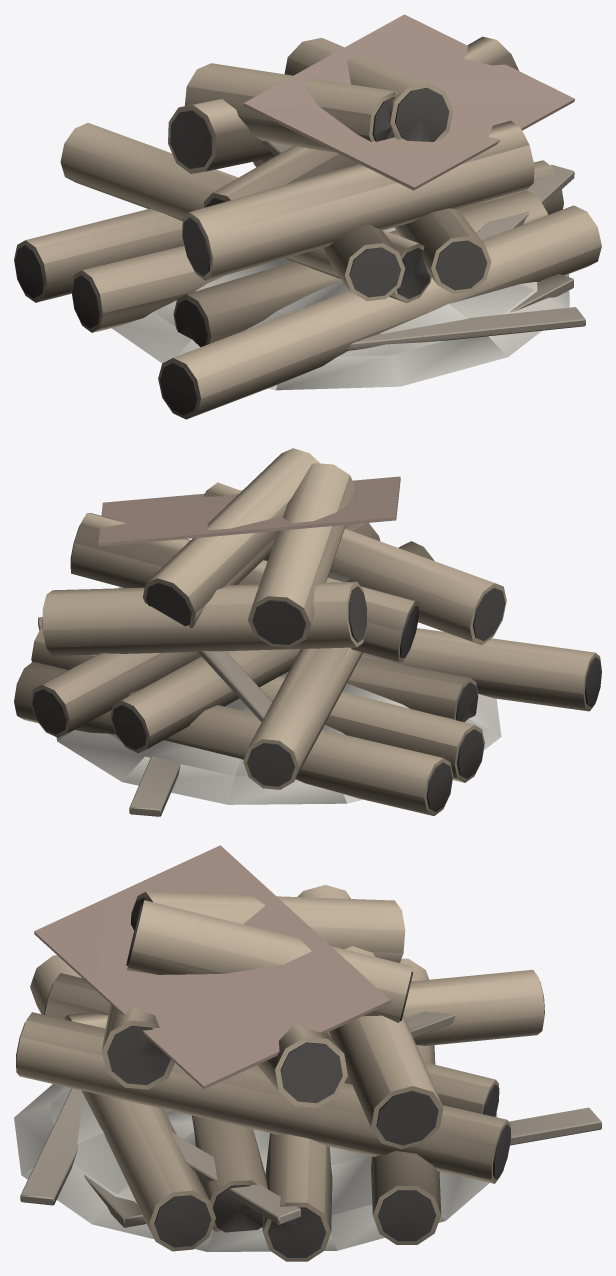
Rendered from rubble_logs.glb.
3 renders of one model, top to bottom at view 1: azimuth 30°, elevation 25°; view 2: azimuth 150°, elevation 25°; view 3: azimuth 270°, elevation 25°, orthographic. The views are drawn at different scales.
Visible parts, largest first — view 1: static; view 2: static; view 3: static.
Part boxes in pixels (x1,y1,x2,y2): static: (14, 14, 601, 419); static: (14, 448, 601, 816); static: (14, 845, 601, 1261).
Size of the model in its own units: 1.98 by 0.8992 by 1.89.
